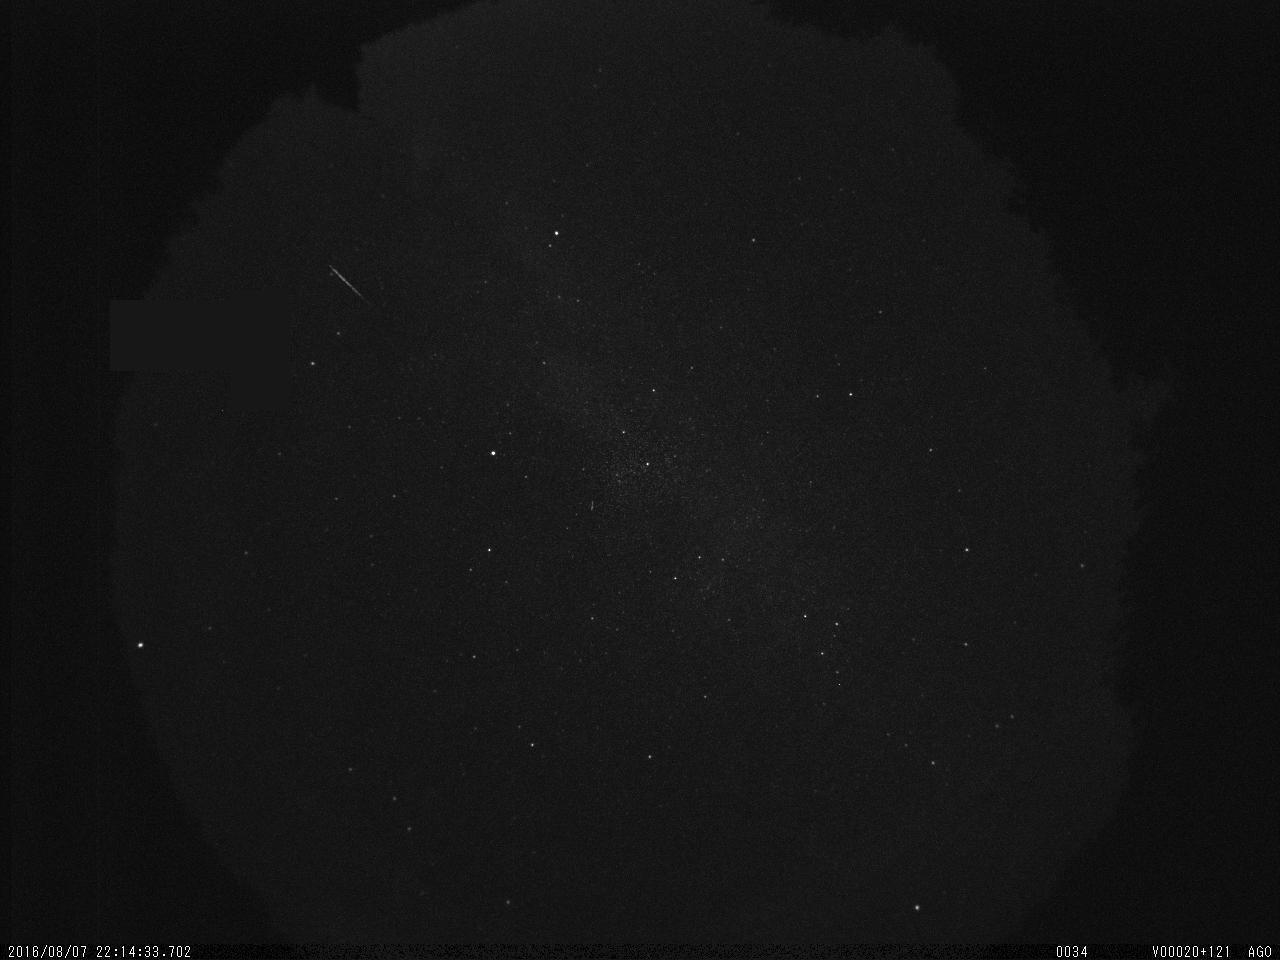meteor: (298, 247, 383, 312)
